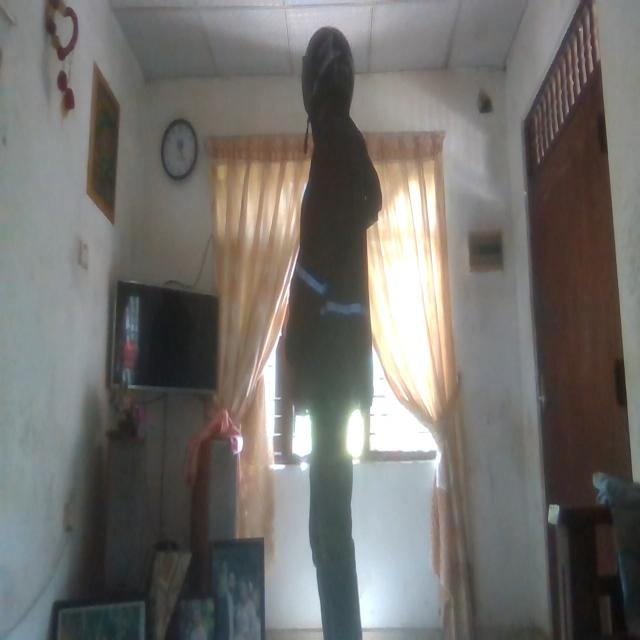Helmet_Wearer: (294, 17, 355, 135)
Jacket_Wearer: (278, 128, 388, 410)
Person: (282, 49, 388, 624)
